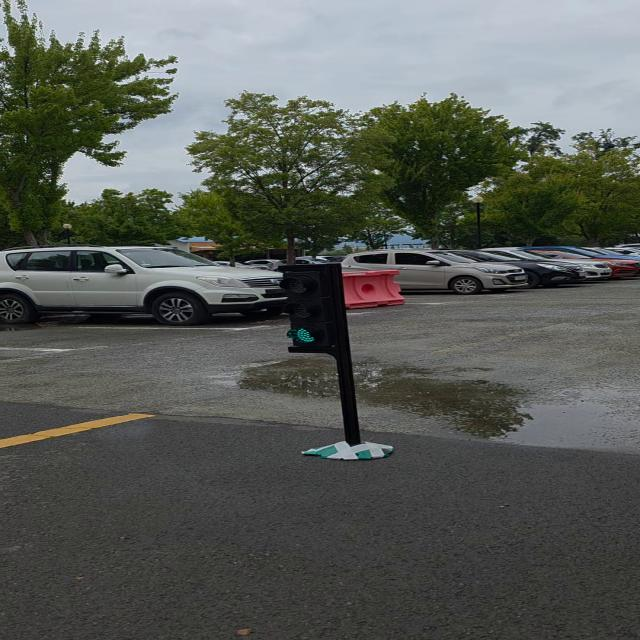green: (274, 262, 345, 354)
